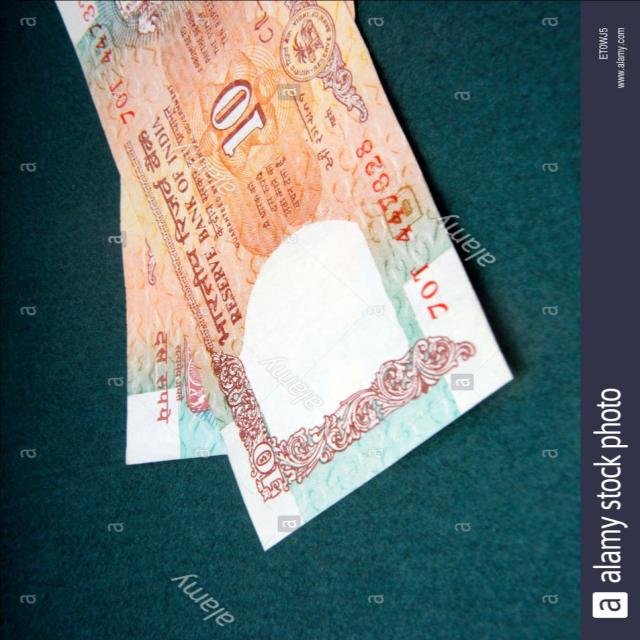10IndianRupees: (42, 0, 512, 546)
